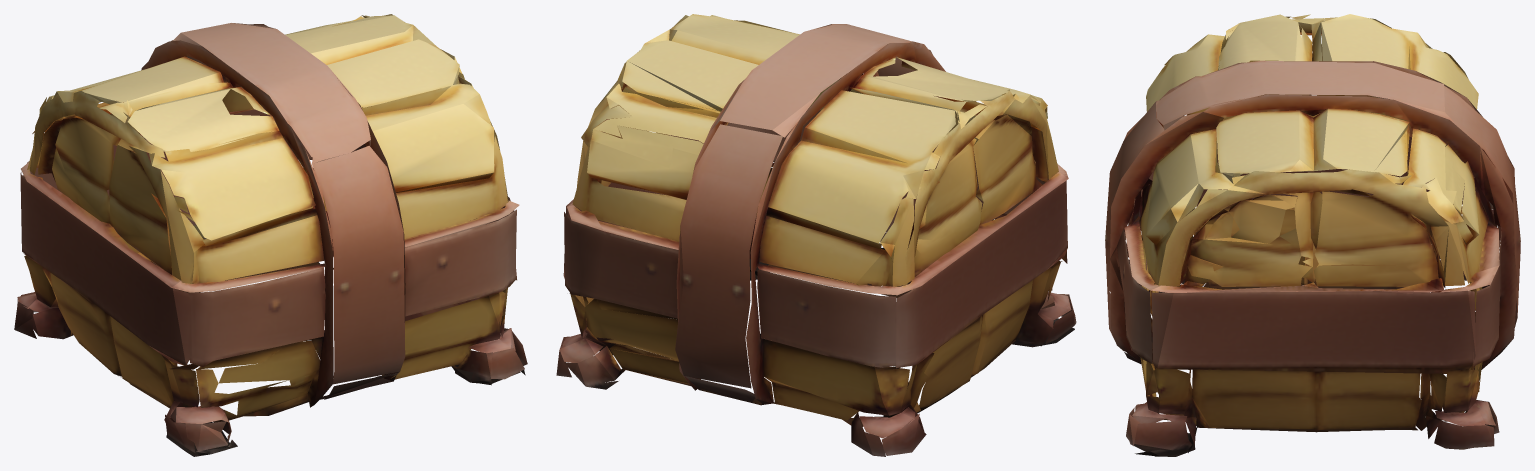
Rendered from hay_bale.fbx.
3 views of the same model, side by side, from view 1: azimuth 30°, elevation 25°; view 2: azimuth 150°, elevation 25°; view 3: azimuth 270°, elevation 25° (orthographic).
Parts seen in each view (by area): view 1: hay_bale; view 2: hay_bale; view 3: hay_bale.
Part boxes in pixels (left/top/right/bottom): hay_bale: left=14, top=14, right=527, bottom=456; hay_bale: left=556, top=14, right=1076, bottom=456; hay_bale: left=1105, top=14, right=1520, bottom=456.
Size of the model in its own units: 0.3798 by 0.3085 by 0.3909.
Materials: 1 (1 with a texture image).
